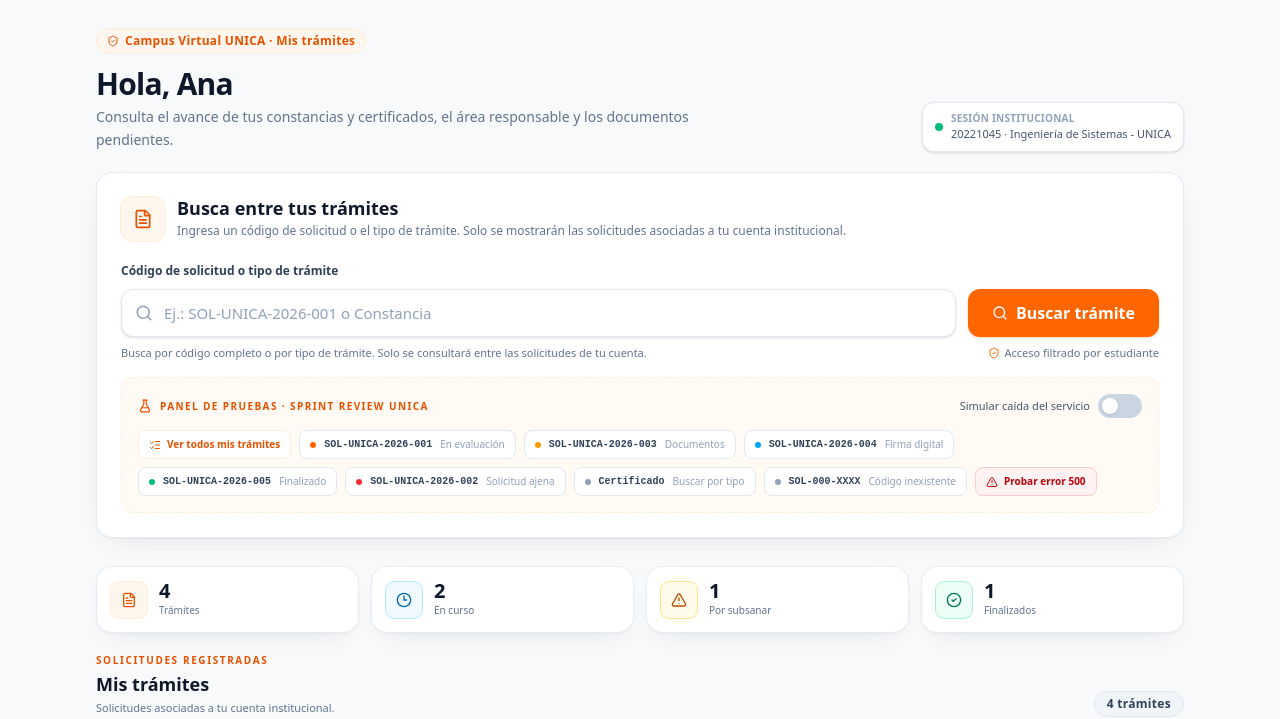
Test: Campus Virtual UNICA · integración UI › valida el formulario antes de consultar
Click the button "Buscar trámite".
click(1063, 312)  # box [968, 288, 1159, 336]
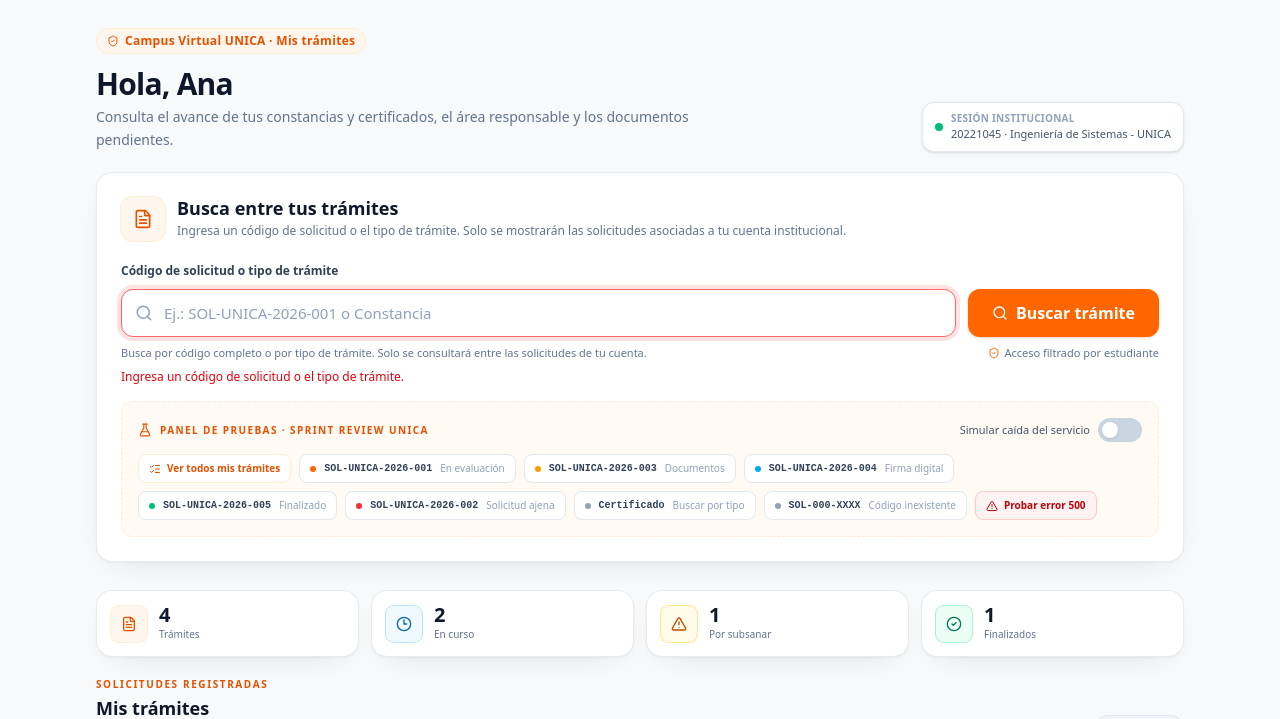
Expected: the text "Ingresa un código de solicitud o el tipo de trámite." is shown, [121, 368, 404, 385]
Type "!!" into the field labelled "Código de solicitud o tipo de trámite".
click(538, 312); type("!!")  # box [121, 288, 956, 336]
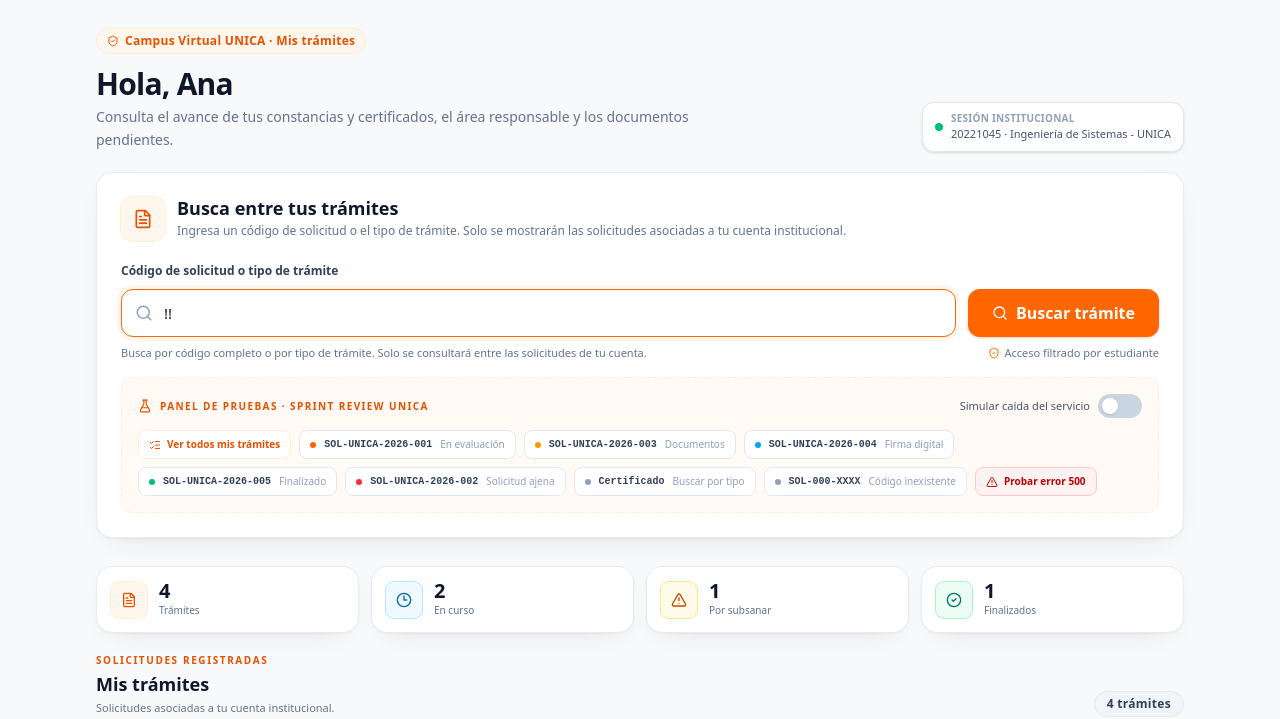
Click the button "Buscar trámite".
click(1063, 312)  # box [968, 288, 1159, 336]
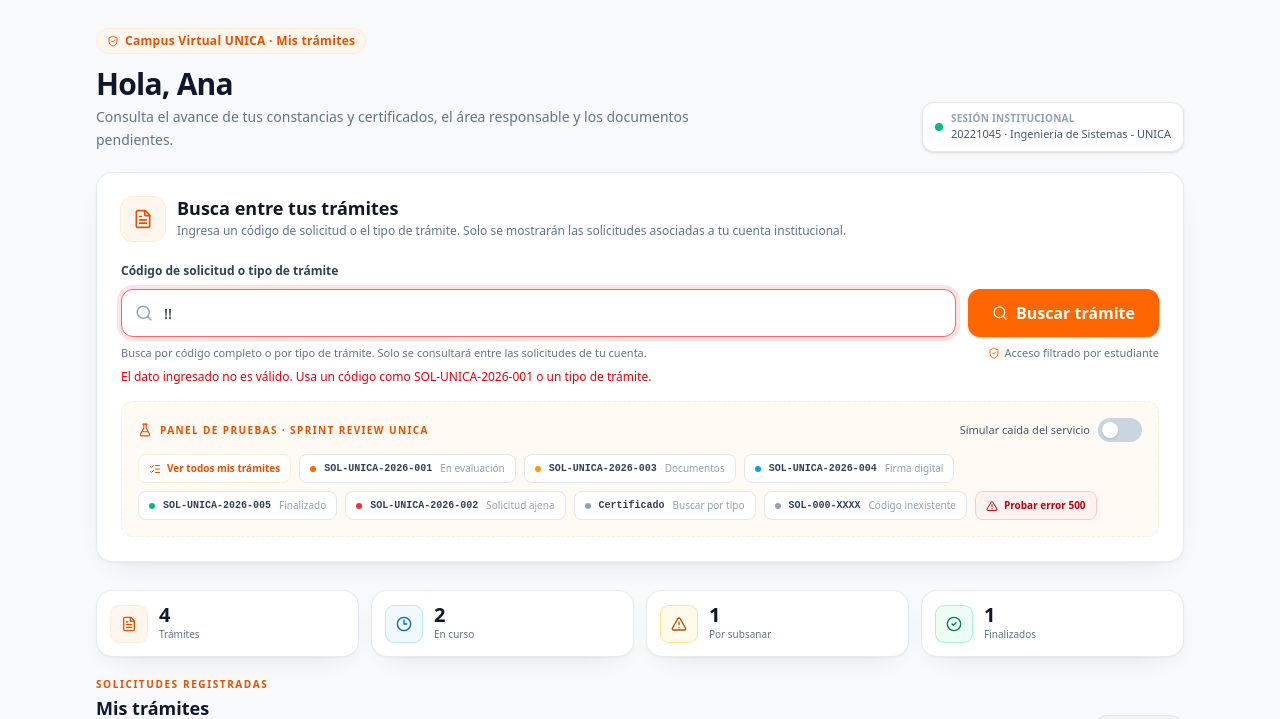
Expected: the text "El dato ingresado no es válido" is shown, [121, 368, 651, 385]
